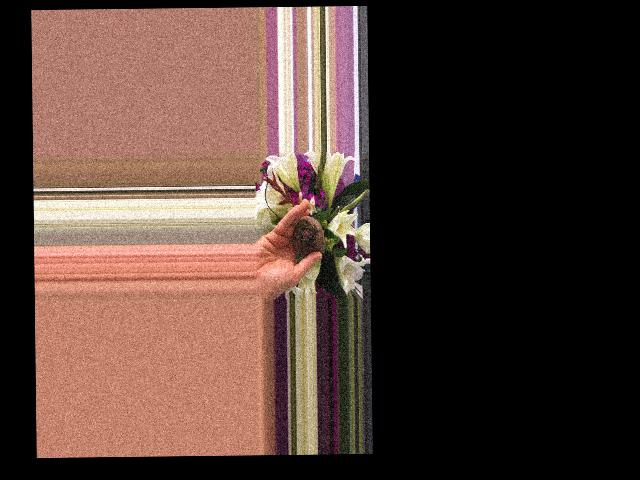beet: (291, 214, 323, 255)
